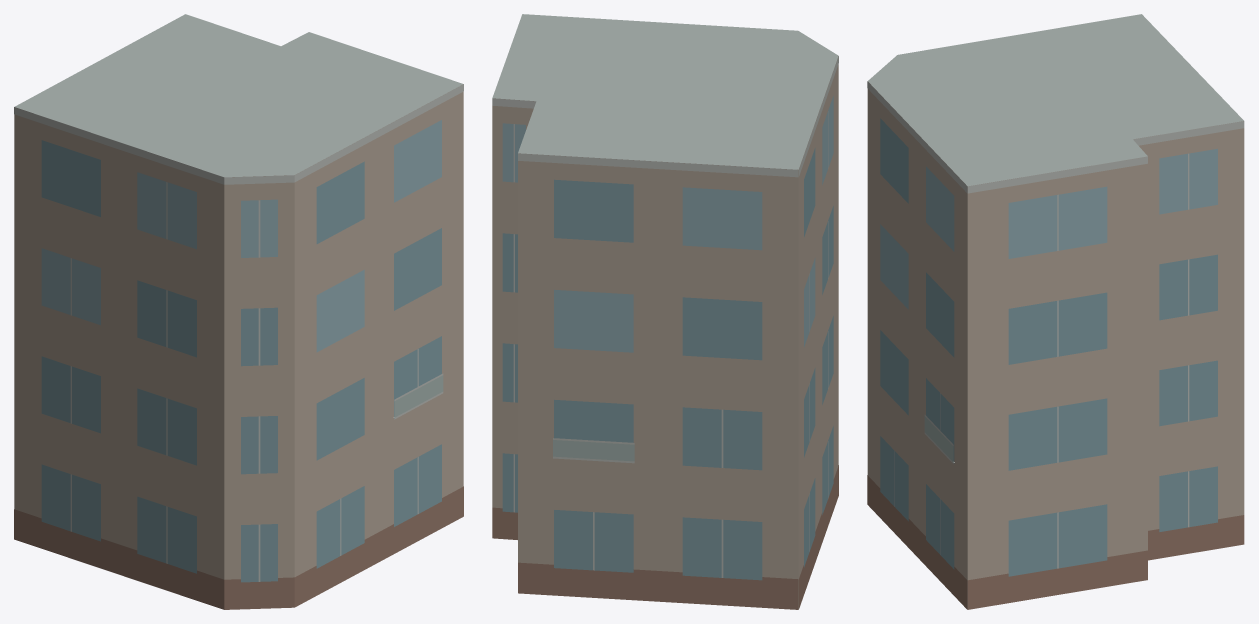
Rendered from survey-upis-32861287.glb.
3 renders of one model, left to right at view 1: azimuth 30°, elevation 25°; view 2: azimuth 150°, elevation 25°; view 3: azimuth 270°, elevation 25°, orthographic. The views are drawn at different scales.
Visible parts, largest first — view 1: survey-upis-32861287.tmp; view 2: survey-upis-32861287.tmp; view 3: survey-upis-32861287.tmp.
Part boxes in pixels (x1=…): survey-upis-32861287.tmp: x1=14, y1=14, x2=463, y2=609; survey-upis-32861287.tmp: x1=492, y1=14, x2=838, y2=609; survey-upis-32861287.tmp: x1=867, y1=14, x2=1244, y2=609.
Size of the model in its own units: 12.4 by 14.2 by 11.46.
